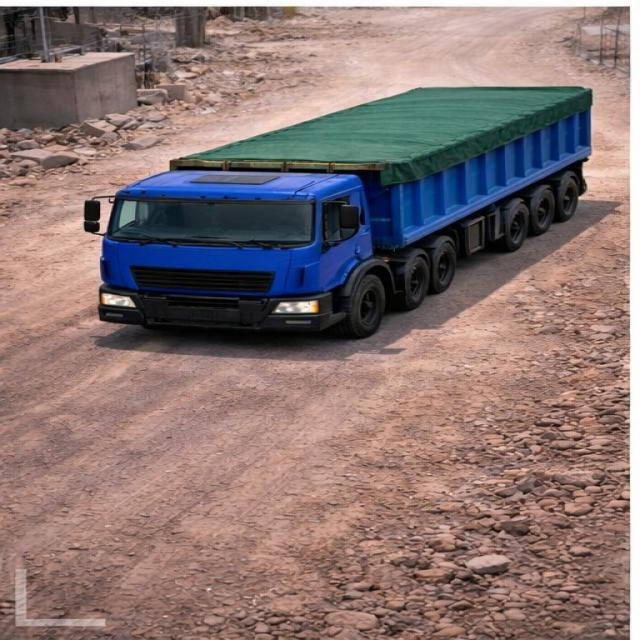trailer: (174, 88, 593, 168)
truck: (75, 71, 616, 344)
